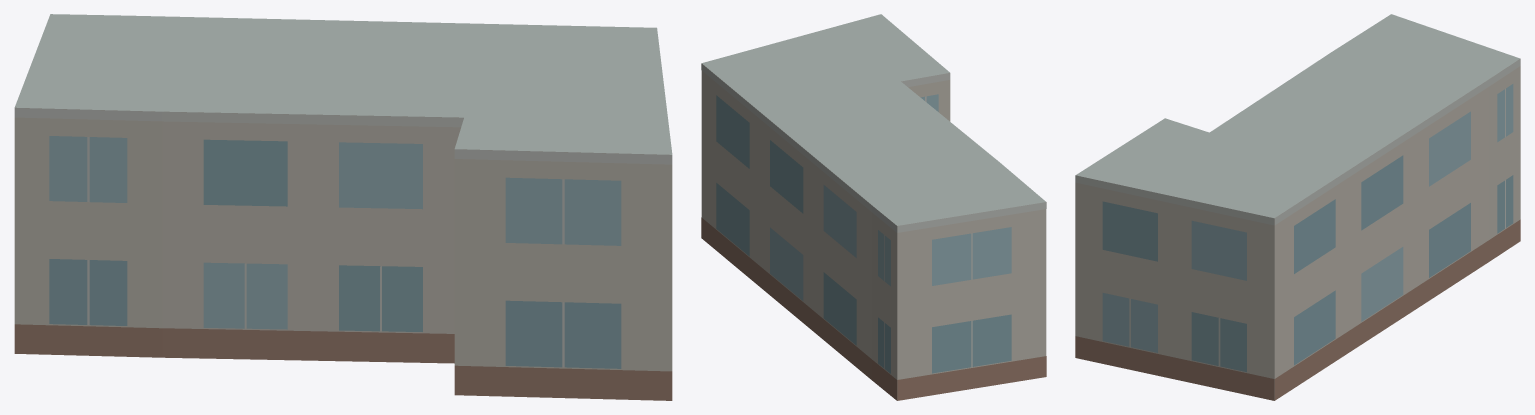
File: survey-upis-32754346.glb
3 renders of one model, left to right at view 1: azimuth 30°, elevation 25°; view 2: azimuth 150°, elevation 25°; view 3: azimuth 270°, elevation 25°, orthographic. The views are drawn at different scales.
Visible parts, largest first — view 1: survey-upis-32754346.tmp; view 2: survey-upis-32754346.tmp; view 3: survey-upis-32754346.tmp.
Part boxes in pixels (x1=…): survey-upis-32754346.tmp: x1=14, y1=14, x2=672, y2=400; survey-upis-32754346.tmp: x1=701, y1=14, x2=1046, y2=400; survey-upis-32754346.tmp: x1=1075, y1=14, x2=1520, y2=400.
Bounding box in the file's own units: 14.64 × 6.1 × 13.49.
